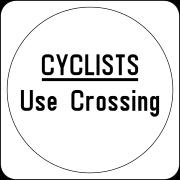Cycle Crossing: (16, 22, 167, 132)
